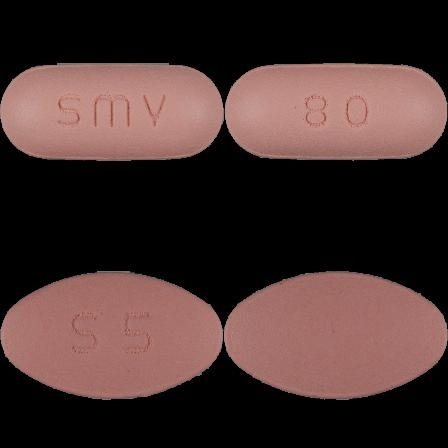10544-907: (0, 0, 224, 224)
